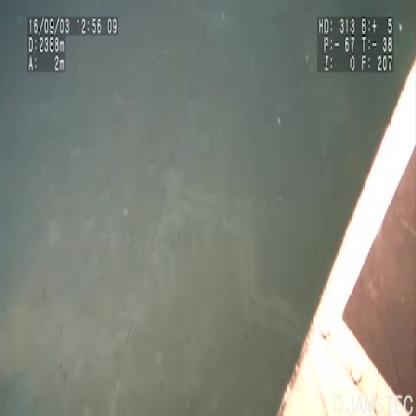Rov: (271, 54, 415, 416)
